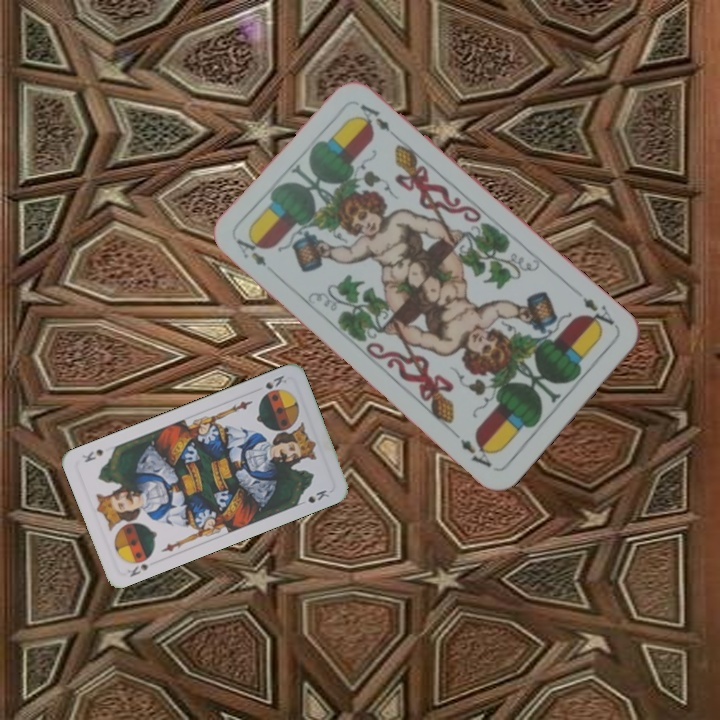EA: (578, 293, 617, 333), (232, 235, 270, 269)
SK: (260, 371, 287, 397), (123, 560, 151, 580)
